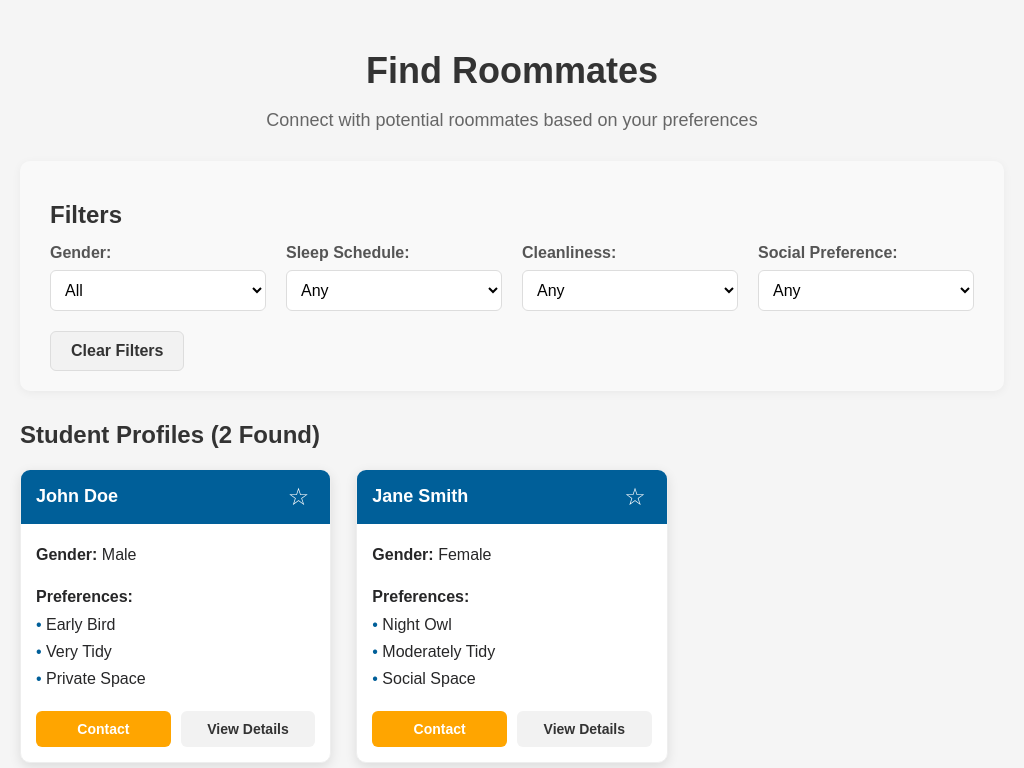
FindRoommate Component › filters profiles by gender
// Select "Male" filter
Select "Male" in the dropdown labelled "Gender:": (158, 290) [50, 270, 266, 311]
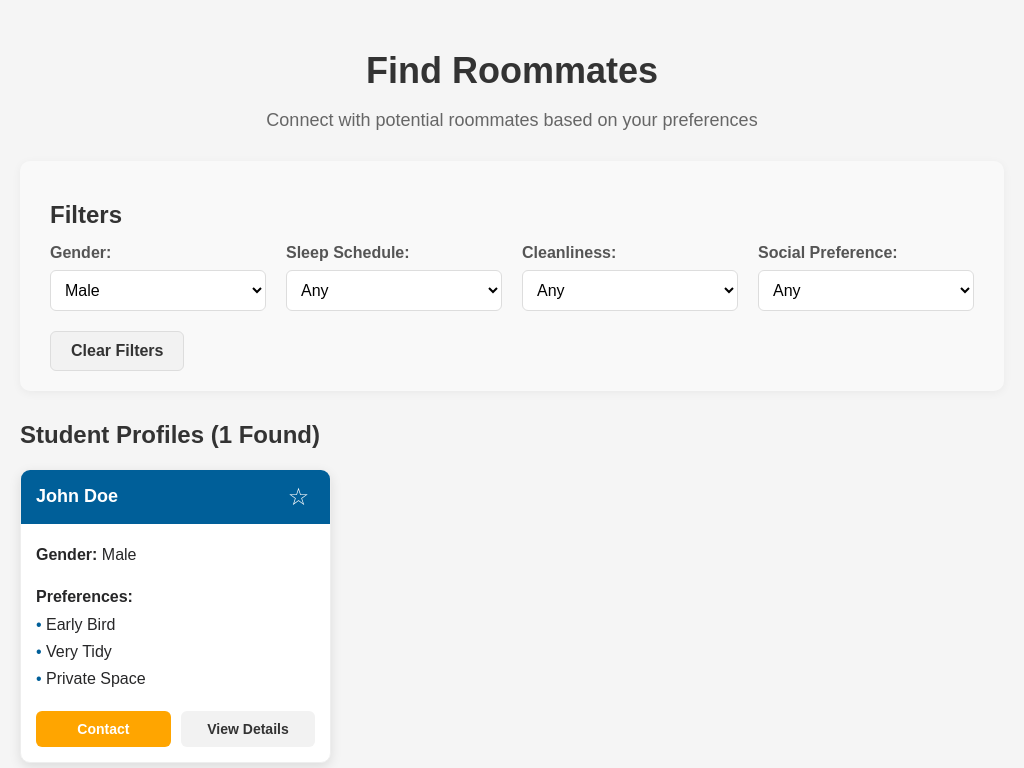
Check: the heading "John Doe" is shown, box [36, 486, 118, 507]
Check: the heading "Jane Smith" is gone
